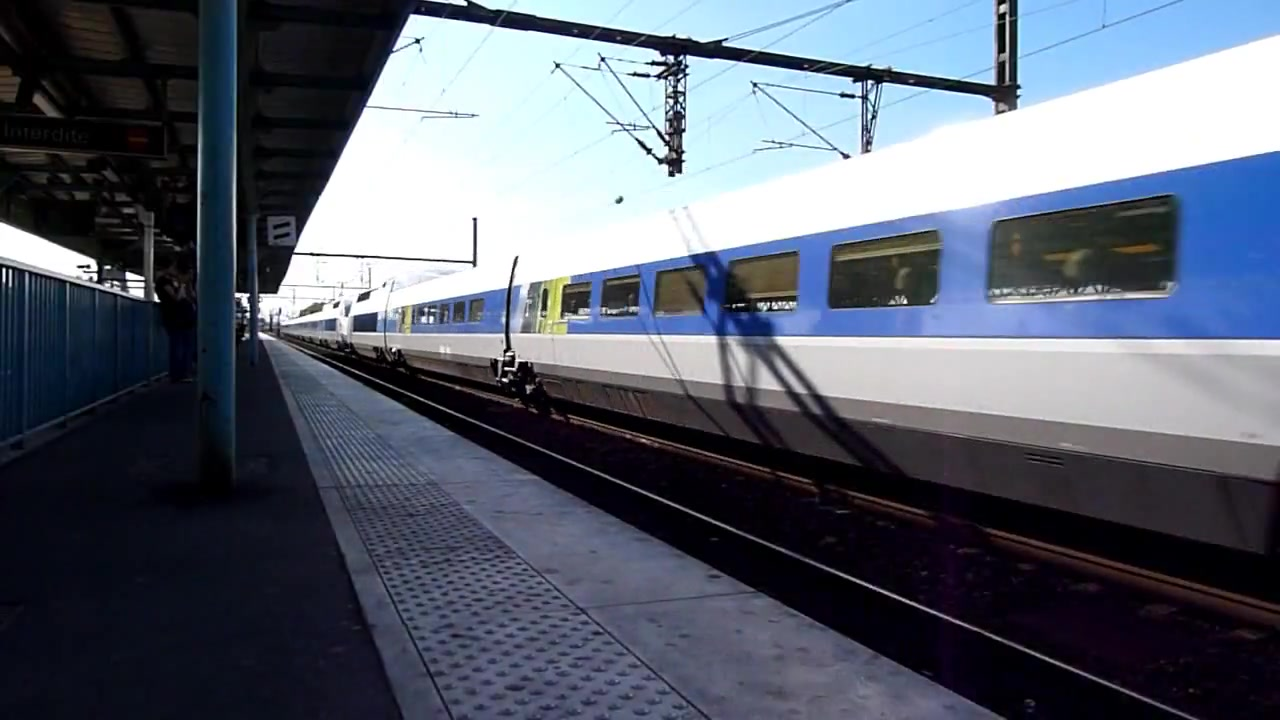train: (282, 35, 1280, 568)
